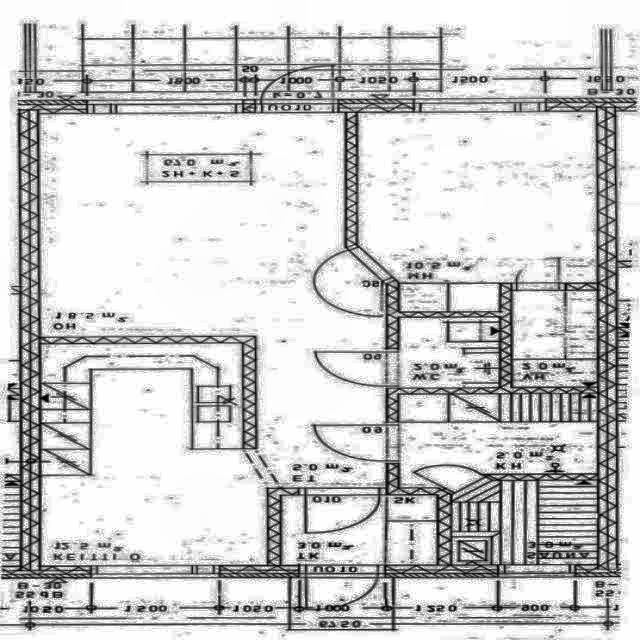room: (356, 110, 597, 313), (399, 393, 597, 487), (452, 480, 597, 564), (281, 496, 437, 565), (513, 291, 597, 387), (399, 317, 499, 388)
